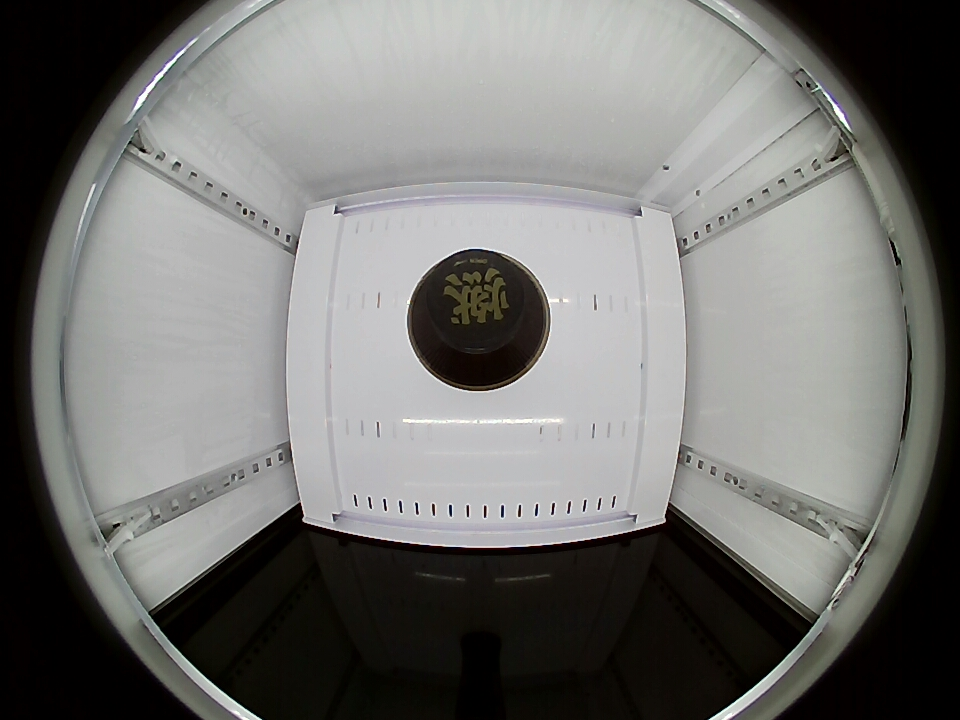rancha-1: (407, 248, 551, 390)
